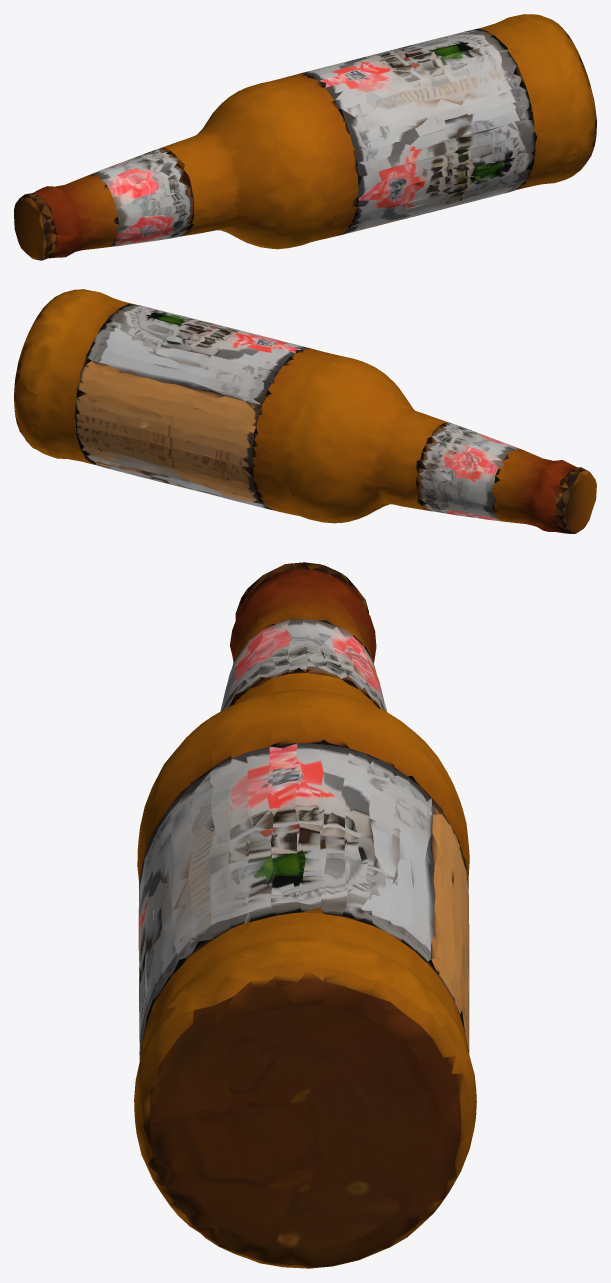
File: beer.glb
3 renders of one model, top to bottom at view 1: azimuth 30°, elevation 25°; view 2: azimuth 150°, elevation 25°; view 3: azimuth 270°, elevation 25°, orthographic. The views are drawn at different scales.
Parts seen in each view (by area): view 1: texture_pbr_v128; view 2: texture_pbr_v128; view 3: texture_pbr_v128.
Boxes of the visible parts, bbox=[...] form: texture_pbr_v128: bbox=[14, 14, 596, 260]; texture_pbr_v128: bbox=[14, 289, 596, 533]; texture_pbr_v128: bbox=[134, 562, 476, 1268].
Bounding box in the file's own units: 0.7116 × 0.2 × 0.1982.
1 material, 1 textured.
